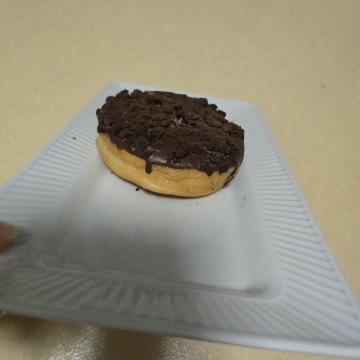doughnut: (80, 106, 214, 279)
